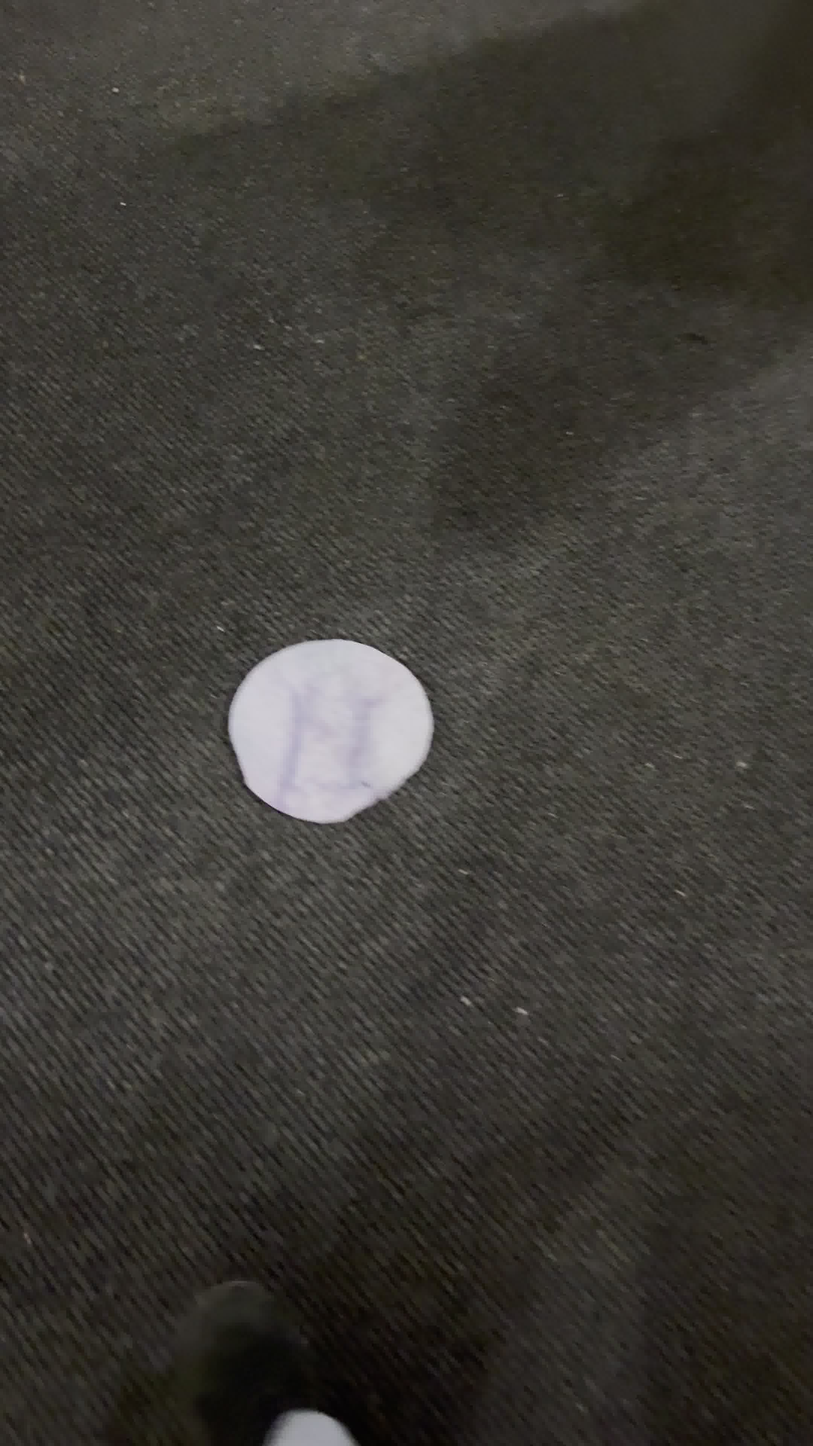Target: (223, 633, 438, 831)
